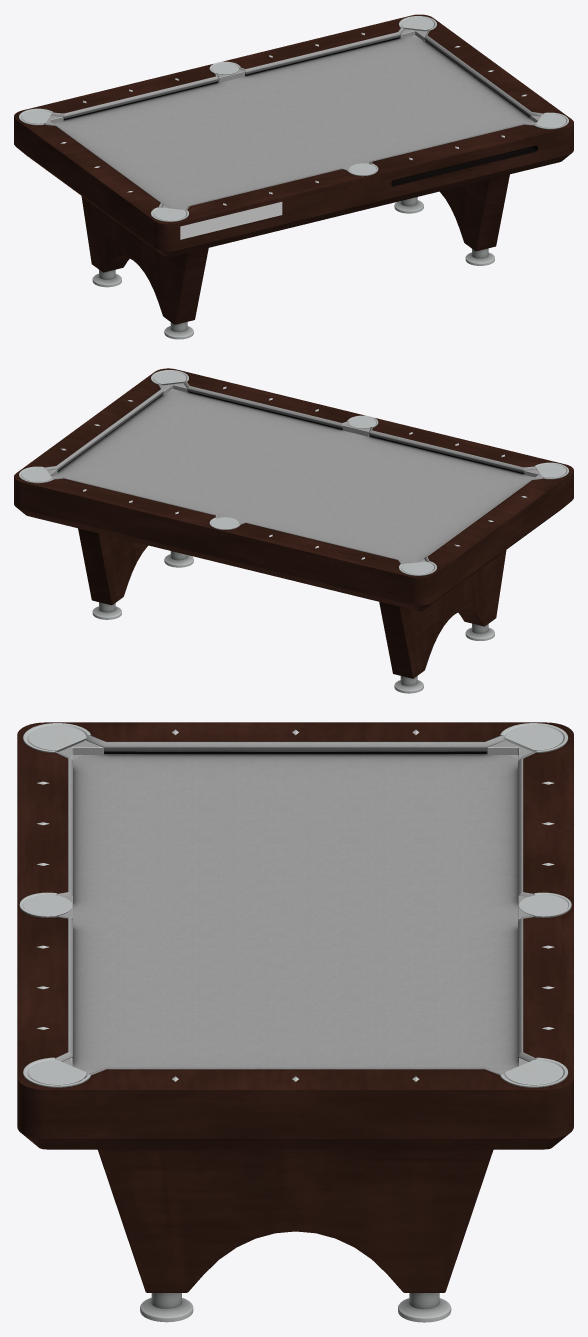
The model's file is tabletop 1.fbx.
3 renders of one model, top to bottom at view 1: azimuth 30°, elevation 25°; view 2: azimuth 150°, elevation 25°; view 3: azimuth 270°, elevation 25°, orthographic. The views are drawn at different scales.
Visible parts, largest first — view 1: table, 4ball_fillers, score; view 2: table, 4ball_fillers; view 3: table, 4ball_fillers.
Boxes of the visible parts, x1,y1,x2,y2 form: table: [14, 14, 573, 339]; 4ball_fillers: [21, 17, 566, 220]; score: [180, 202, 282, 239]; table: [14, 368, 573, 693]; 4ball_fillers: [21, 371, 566, 574]; table: [17, 722, 573, 1322]; 4ball_fillers: [23, 725, 568, 1085].
Bounding box in the file's own units: 2.5 × 0.8692 × 1.61.
